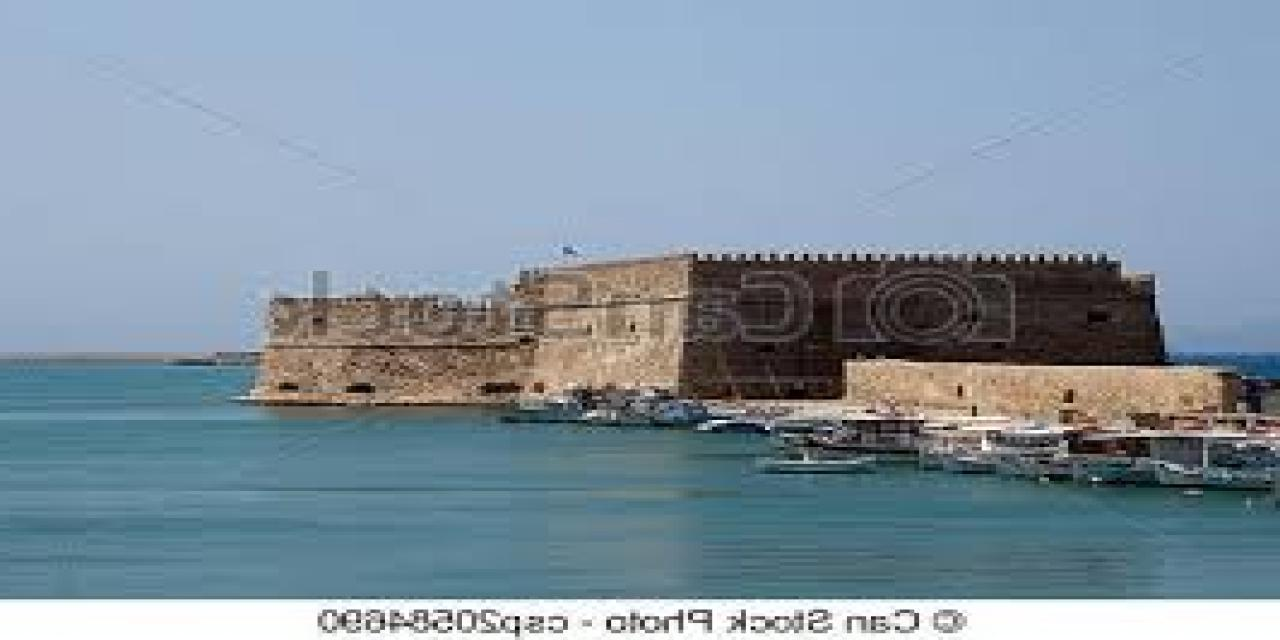Kules: (231, 250, 1164, 414)
